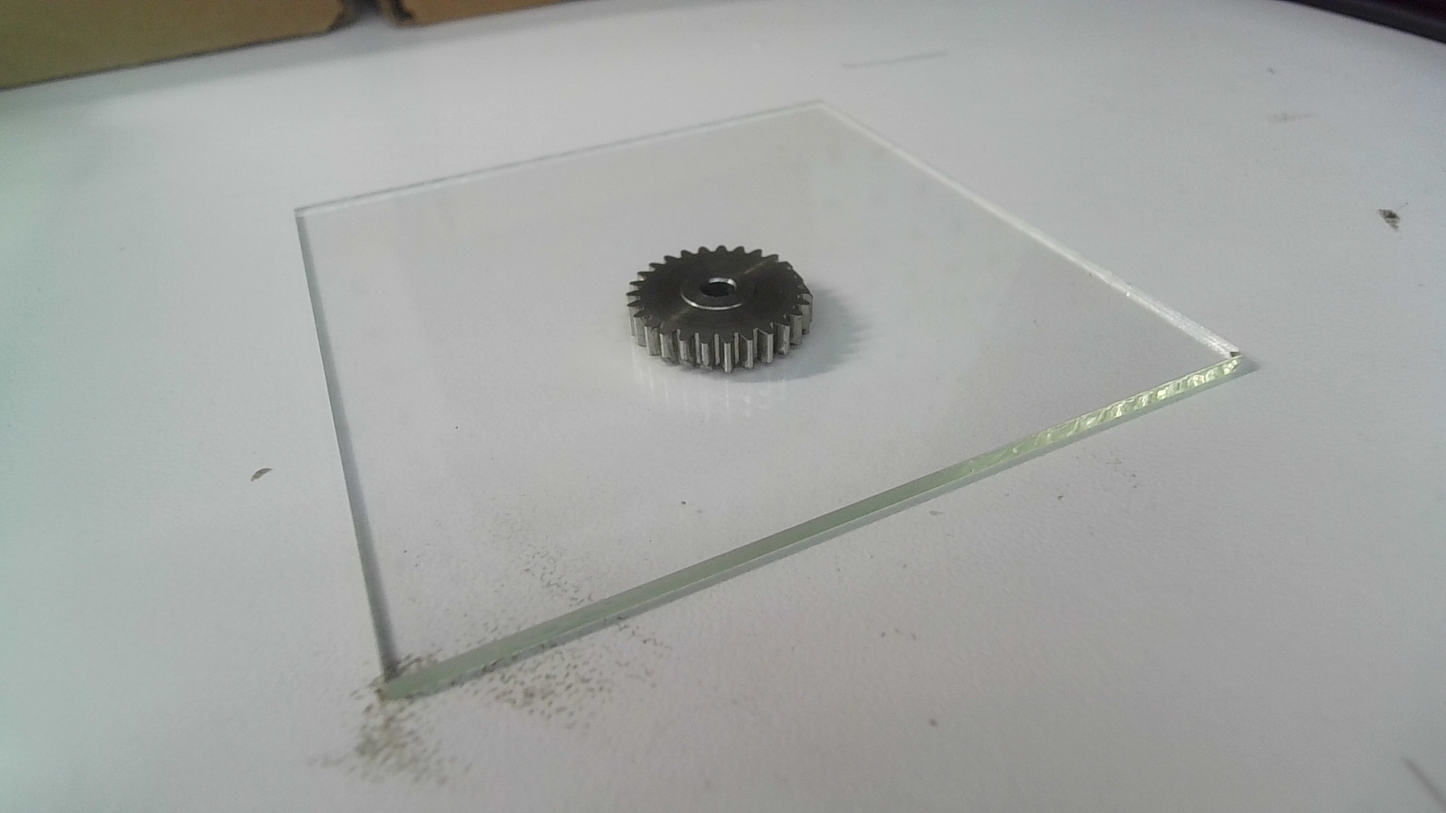gear: (623, 241, 820, 377)
